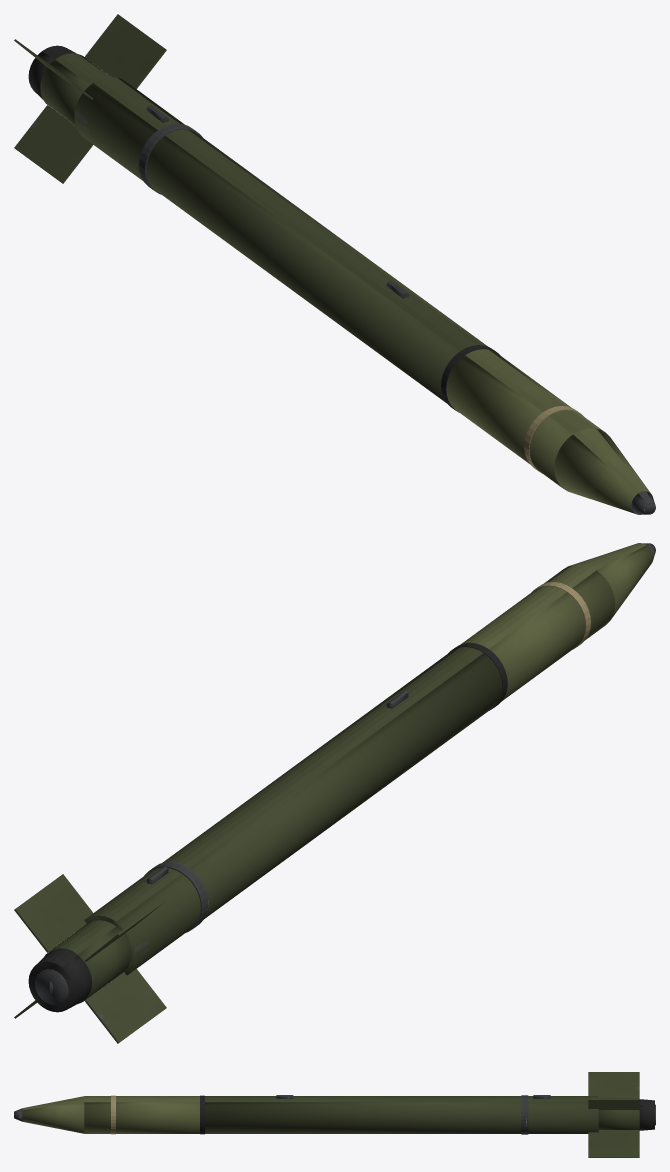
File: rocket_tos220.glb
The picture shows the model from 3 angles, top to bottom: view 1: azimuth 30°, elevation 25°; view 2: azimuth 150°, elevation 25°; view 3: azimuth 270°, elevation 25°; orthographic projection. The views are drawn at different scales.
Visible parts, largest first — view 1: TOS220_Body; view 2: TOS220_Body; view 3: TOS220_Body.
Boxes of the visible parts, bbox=[...] form: TOS220_Body: bbox=[14, 14, 655, 514]; TOS220_Body: bbox=[14, 543, 655, 1043]; TOS220_Body: bbox=[14, 1072, 655, 1157].
Bounding box in the file's own units: 0.379 × 0.379 × 3.75.
5 materials, 5 textured.
